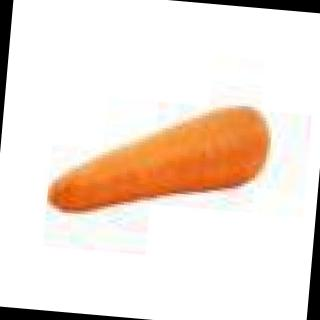Wortel: (17, 82, 288, 255)
